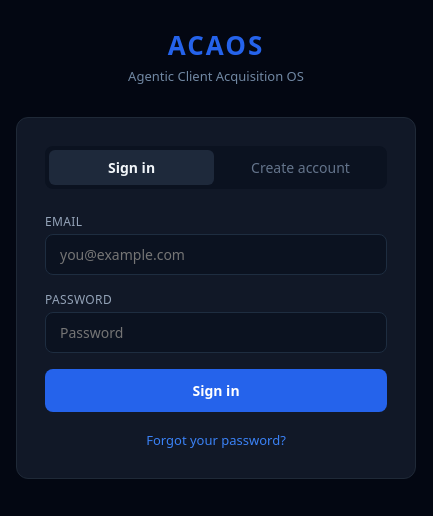
AuthScreen › switching to Create account reveals the name field
Click the button "Create account".
click(300, 168)  # box [218,150,383,185]
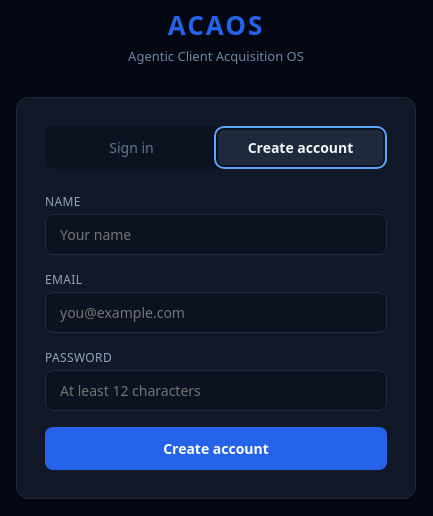
Check: the field with placeholder "Your name" is shown, box [45,214,387,255]
